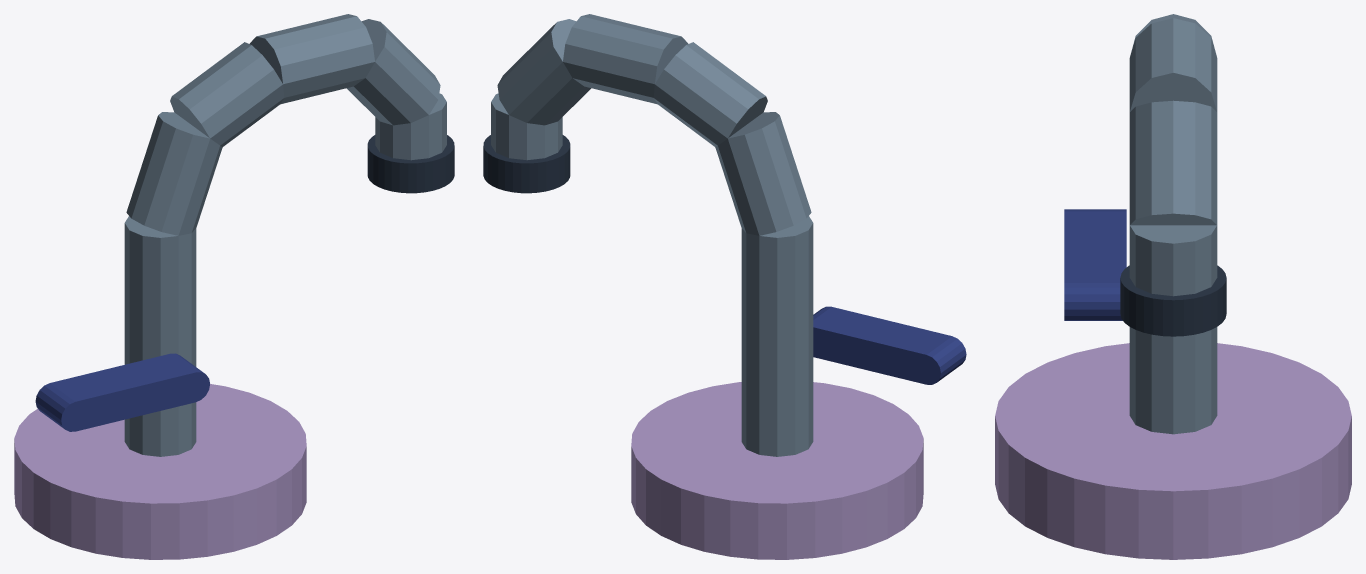
The model's file is faucet.glb.
The picture shows the model from 3 angles, left to right: view 1: azimuth 30°, elevation 25°; view 2: azimuth 150°, elevation 25°; view 3: azimuth 270°, elevation 25°; orthographic projection. The views are drawn at different scales.
Visible parts, largest first — view 1: base, pipe0, lever, pipe1, pipe3, pipe2, pipe4, outlet, pipe5; view 2: base, pipe0, lever, pipe1, pipe3, pipe2, pipe4, outlet, pipe5; view 3: base, pipe4, pipe0, pipe3, lever, pipe5, outlet.
Part boxes in pixels (x1,y1,x2,y2): base: (14,384,306,559); pipe0: (124,216,196,456); lever: (35,353,209,431); pipe1: (126,112,222,235); pipe3: (249,14,374,104); pipe2: (170,42,284,146); pipe4: (347,19,440,125); outlet: (367,135,454,193); pipe5: (375,93,446,160); base: (631,382,923,559); pipe0: (741,216,813,456); lever: (813,306,966,384); pipe1: (715,112,811,235); pipe3: (563,14,688,104); pipe2: (653,42,767,146); pipe4: (497,19,590,125); outlet: (483,135,570,193); pipe5: (491,93,562,160); base: (995,343,1351,559); pipe4: (1129,100,1217,225); pipe0: (1129,327,1217,434); pipe3: (1129,18,1217,111); lever: (1064,209,1126,320); pipe5: (1129,225,1217,296); outlet: (1120,265,1226,336).
Size of the model in its own units: 1.36 by 1.31 by 0.8.
